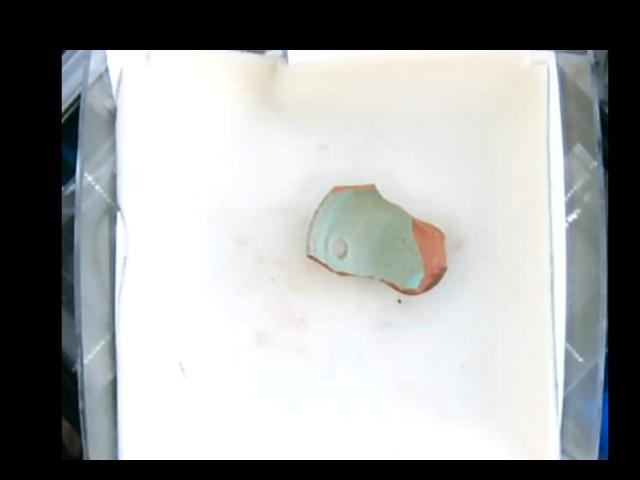China: (303, 183, 445, 295)
